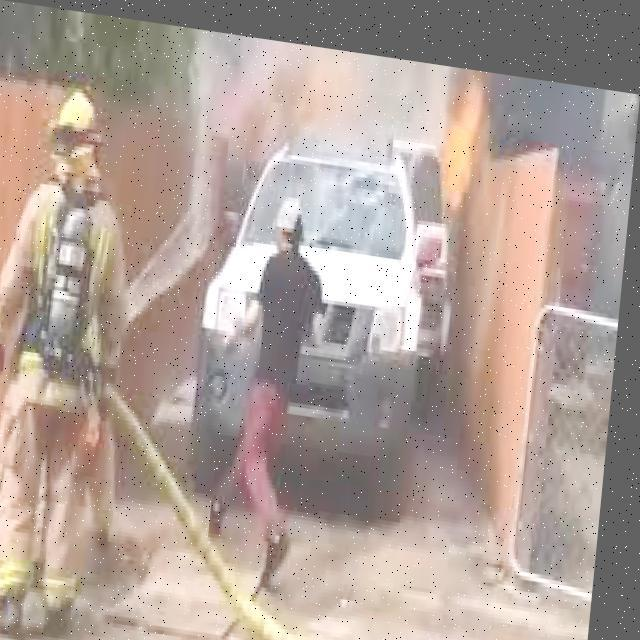Fire: (428, 66, 502, 204)
